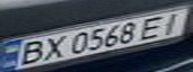0: (66, 29, 90, 55)
5: (87, 26, 109, 52)
6: (103, 23, 127, 48)
8: (115, 19, 145, 44)
B: (9, 38, 51, 68)
E: (133, 14, 172, 40)
I: (154, 9, 190, 36)
X: (36, 34, 69, 62)
